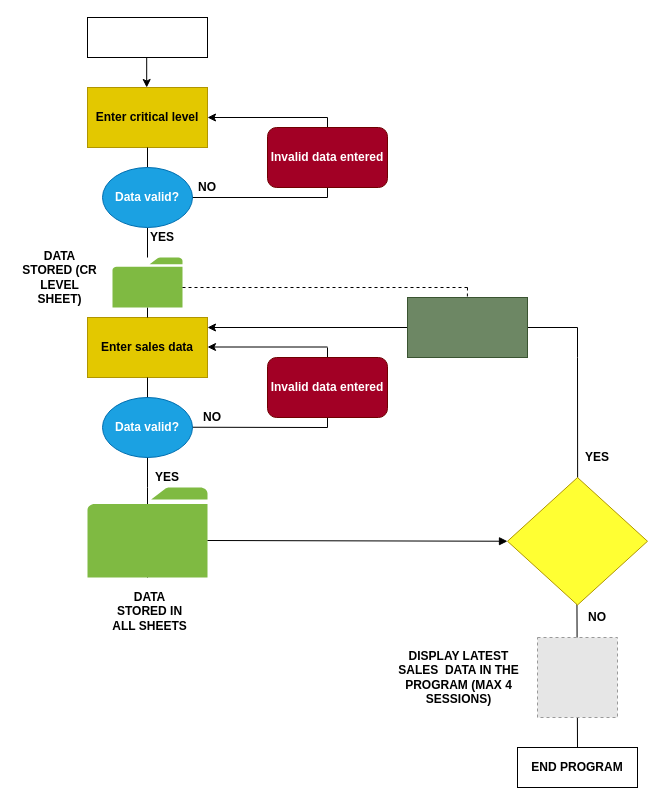
Some shapes in this 665 by 805 pixel diagram are drawn without their labels. Grey dashed boxes stand in for pictures. The shapes that lost their labels are listed below. From the top down, each one's centre as x and y in pixels, then its label:
the point at 147,37: START PROGRAM
the point at 467,327: Fetch latest cr level and use for next calculation
the point at 577,540: Add sales data? YES/NO
